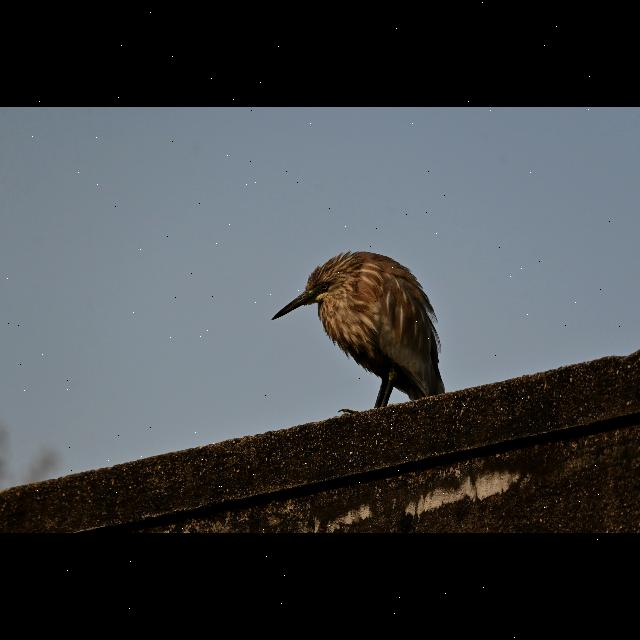heron: (269, 245, 447, 425)
